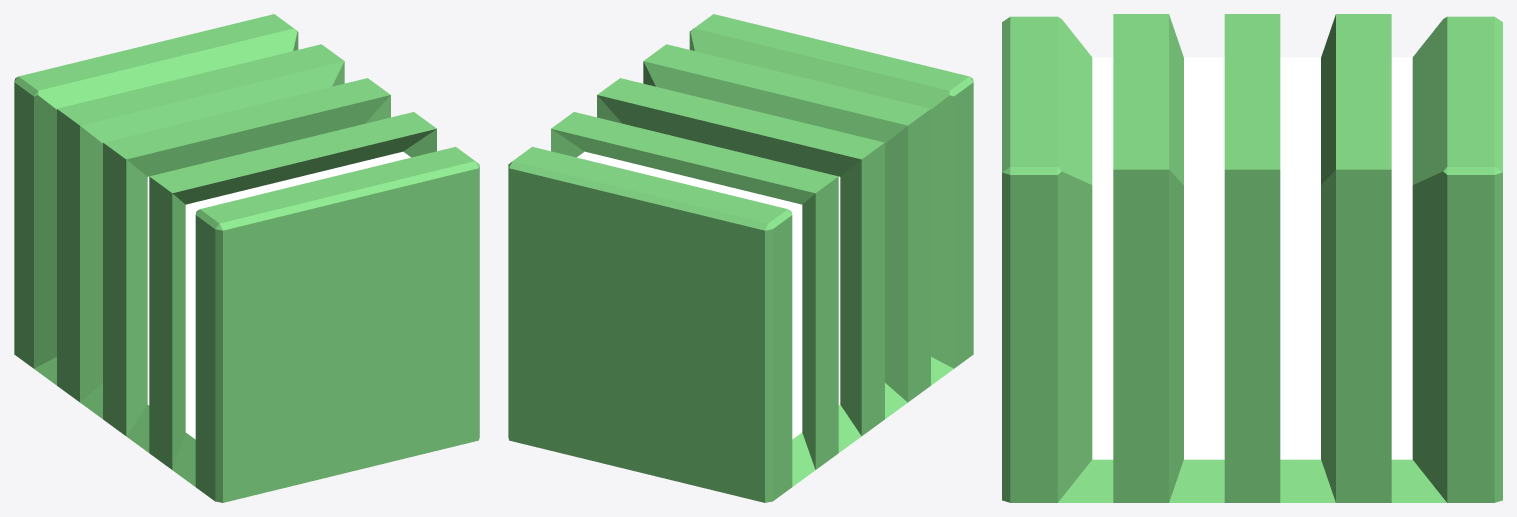
Rendered from Prop3.fbx.
The picture shows the model from 3 angles, left to right: view 1: azimuth 30°, elevation 25°; view 2: azimuth 150°, elevation 25°; view 3: azimuth 270°, elevation 25°; orthographic projection. The views are drawn at different scales.
Visible parts, largest first — view 1: Cube.001; view 2: Cube.001; view 3: Cube.001.
Part boxes in pixels (bbox=[...]): Cube.001: bbox=[14, 14, 479, 502]; Cube.001: bbox=[508, 14, 973, 502]; Cube.001: bbox=[1002, 14, 1502, 502].
Bounding box in the file's own units: 96.46 × 96.46 × 131.
